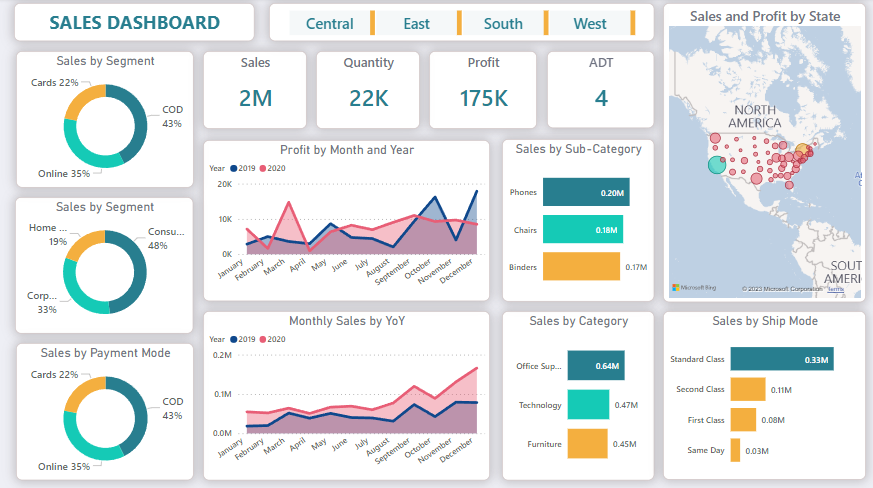

This screenshot's page, from the dashboard's own definition file:
{"tool":"powerbi","page":{"name":"Page 1","canvas":[1280,720],"ordinal":0},"visuals":[{"type":"clusteredBarChart","title":"Sales by Category","fields":{"Category":["SuperStore_Sales_Dataset.Category"],"Y":["Sum(SuperStore_Sales_Dataset.Sales)"]},"box":[734.8,457.6,222.7,248.5],"z":0},{"type":"clusteredBarChart","title":"Sales by Sub-Category","fields":{"Y":["Sum(SuperStore_Sales_Dataset.Sales)"],"Category":["SuperStore_Sales_Dataset.Sub-Category"]},"box":[734.8,206.1,222.7,237.9],"z":1000},{"type":"clusteredBarChart","title":"Sales by Ship Mode","fields":{"Y":["Sum(SuperStore_Sales_Dataset.Sales)"],"Category":["SuperStore_Sales_Dataset.Ship Mode"]},"box":[980.3,457.6,286.4,248.5],"z":2000},{"type":"areaChart","title":"Monthly Sales by YoY","fields":{"Y":["Sum(SuperStore_Sales_Dataset.Sales)"],"Category":["SuperStore_Sales_Dataset.Order Date.Variation.Date Hierarchy.Month"],"Series":["SuperStore_Sales_Dataset.Order Date.Variation.Date Hierarchy.Year"]},"box":[297,457.6,419.7,248.5],"z":3000},{"type":"areaChart","fields":{"Series":["SuperStore_Sales_Dataset.Order Date.Variation.Date Hierarchy.Year"],"Y":["Sum(SuperStore_Sales_Dataset.Profit)"],"Category":["SuperStore_Sales_Dataset.Order Date.Variation.Date Hierarchy.Month","SuperStore_Sales_Dataset.Order Date.Variation.Date Hierarchy.Day"]},"box":[297,207.6,419.7,236.4],"z":4000},{"type":"map","fields":{"Category":["SuperStore_Sales_Dataset.State"],"Size":["Sum(SuperStore_Sales_Dataset.Sales)"]},"box":[980.3,7.6,286.4,436.4],"z":5000},{"type":"donutChart","fields":{"Category":["SuperStore_Sales_Dataset.Segment"],"Y":["Sum(SuperStore_Sales_Dataset.Sales)"]},"box":[21.4,291.4,261.4,200],"z":6000},{"type":"donutChart","fields":{"Y":["Sum(SuperStore_Sales_Dataset.Sales)"],"Category":["SuperStore_Sales_Dataset.Payment Mode"]},"box":[22.9,504.3,260,201.4],"z":7000},{"type":"donutChart","fields":{"Category":["SuperStore_Sales_Dataset.Segment"],"Y":["Sum(SuperStore_Sales_Dataset.Sales)"]},"box":[22.9,77.1,260,200],"z":8000},{"type":"card","title":"Sales","fields":{"Values":["Sum(SuperStore_Sales_Dataset.Sales)"]},"box":[297,77.3,151.5,113.6],"z":9000},{"type":"card","title":"Profit","fields":{"Values":["Sum(SuperStore_Sales_Dataset.Profit)"]},"box":[627.3,77.3,157.6,113.6],"z":10000},{"type":"card","title":"Quantity","fields":{"Values":["Sum(SuperStore_Sales_Dataset.Quantity)"]},"box":[461.4,77.1,151.4,114.3],"z":11000},{"type":"card","title":"Avg","fields":{"Values":["Avg(SuperStore_Sales_Dataset.AvgDelivery)"]},"box":[800,77.3,157.6,113.6],"z":12000},{"type":"slicer","fields":{"Values":["SuperStore_Sales_Dataset.Region"]},"box":[393.9,7.6,563.6,56.1],"z":13000},{"type":"textbox","box":[21.2,7.6,351.5,56.1],"z":14000}]}

Visuals, with their boxes in screenshot pixels (x1, y1, x2, y2), scaled from the page's 1280x720 canvas onto the 873x488 screenshot:
"Sales by Category" clusteredBarChart: <region>501, 310, 653, 479</region>
"Sales by Sub-Category" clusteredBarChart: <region>501, 140, 653, 301</region>
"Sales by Ship Mode" clusteredBarChart: <region>669, 310, 864, 479</region>
"Monthly Sales by YoY" areaChart: <region>203, 310, 489, 479</region>
areaChart - SuperStore_Sales_Dataset.Order Date.Variation.Date Hierarchy.Year x Sum(SuperStore_Sales_Dataset.Profit): <region>203, 141, 489, 301</region>
map - SuperStore_Sales_Dataset.State x Sum(SuperStore_Sales_Dataset.Sales): <region>669, 5, 864, 301</region>
donutChart - SuperStore_Sales_Dataset.Segment x Sum(SuperStore_Sales_Dataset.Sales): <region>15, 198, 193, 333</region>
donutChart - Sum(SuperStore_Sales_Dataset.Sales) x SuperStore_Sales_Dataset.Payment Mode: <region>16, 342, 193, 478</region>
donutChart - SuperStore_Sales_Dataset.Segment x Sum(SuperStore_Sales_Dataset.Sales): <region>16, 52, 193, 188</region>
"Sales" card: <region>203, 52, 306, 129</region>
"Profit" card: <region>428, 52, 535, 129</region>
"Quantity" card: <region>315, 52, 418, 130</region>
"Avg" card: <region>546, 52, 653, 129</region>
slicer - SuperStore_Sales_Dataset.Region: <region>269, 5, 653, 43</region>
textbox: <region>14, 5, 254, 43</region>
